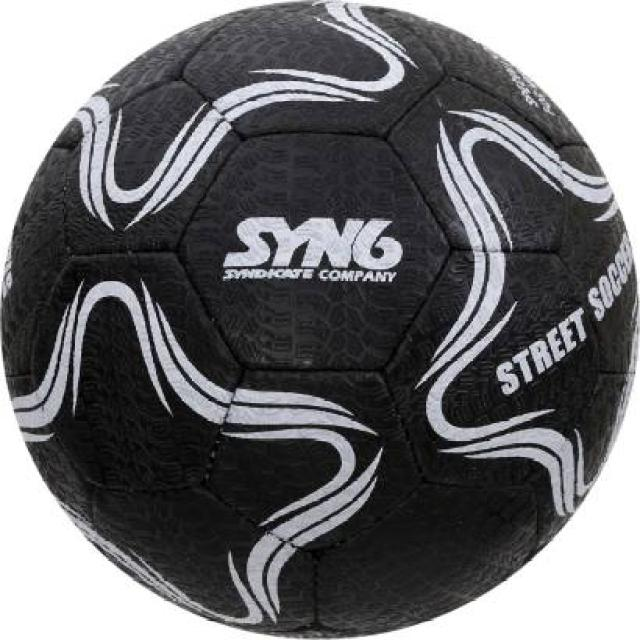soccer ball: (6, 1, 640, 632)
